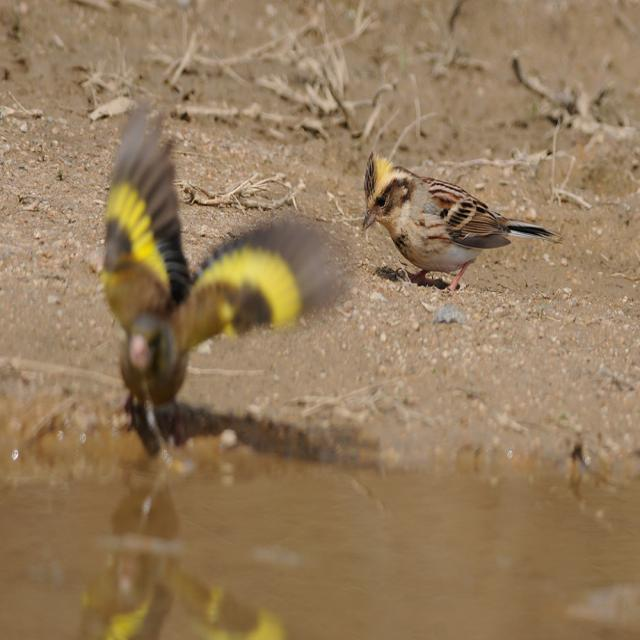bird: (94, 106, 355, 452), (363, 170, 549, 293)
